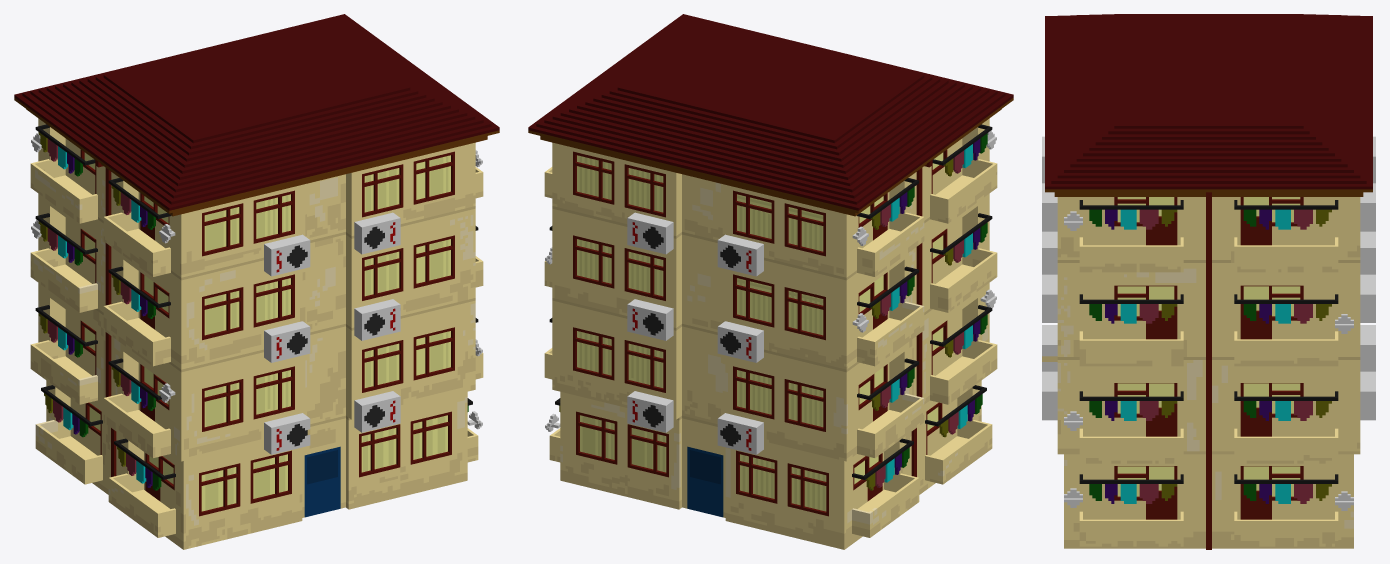
The picture shows the model from 3 angles, left to right: view 1: azimuth 30°, elevation 25°; view 2: azimuth 150°, elevation 25°; view 3: azimuth 270°, elevation 25°; orthographic projection. The views are drawn at different scales.
Parts seen in each view (by area): view 1: VOX; view 2: VOX; view 3: VOX.
Boxes of the visible parts, x1,y1,x2,y2 form: VOX: [14, 14, 499, 549]; VOX: [528, 14, 1013, 549]; VOX: [1042, 14, 1375, 549].
Bounding box in the file's own units: 0.128 × 0.142 × 0.106.
